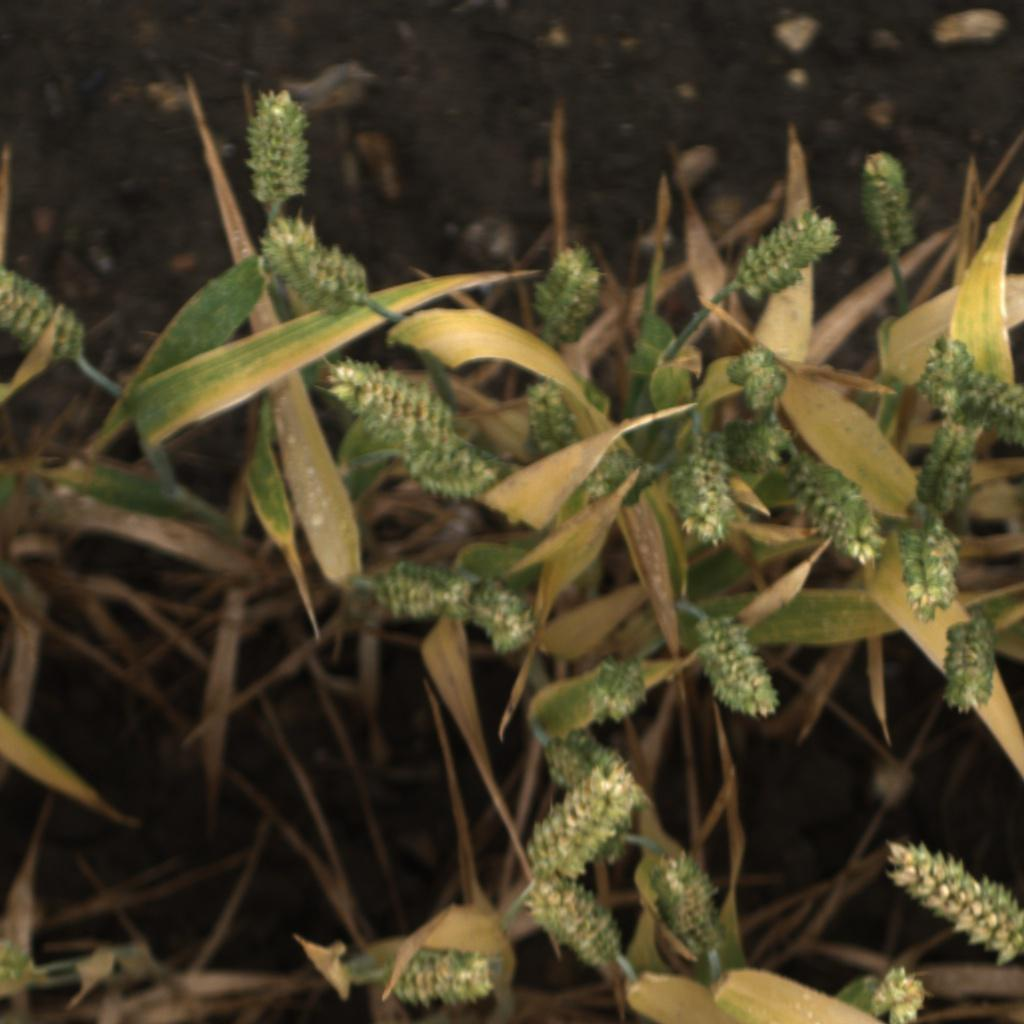0-0: (882, 836, 1024, 962), (521, 761, 643, 893), (322, 356, 458, 452), (258, 214, 373, 320), (660, 418, 744, 554), (537, 722, 654, 818), (514, 878, 629, 972), (236, 83, 321, 209), (694, 614, 791, 722), (735, 207, 837, 308), (798, 458, 886, 574), (0, 259, 88, 364), (356, 561, 478, 629), (897, 512, 964, 627), (534, 246, 608, 347), (393, 945, 504, 1011), (932, 613, 1000, 719), (921, 414, 992, 515), (856, 146, 917, 259), (395, 441, 505, 503), (650, 845, 724, 935), (907, 330, 983, 413), (462, 584, 538, 659), (515, 377, 586, 451), (648, 896, 728, 960), (722, 413, 800, 476), (969, 374, 1024, 461), (580, 443, 654, 506), (728, 340, 792, 410), (586, 653, 652, 720), (863, 962, 929, 1024)
